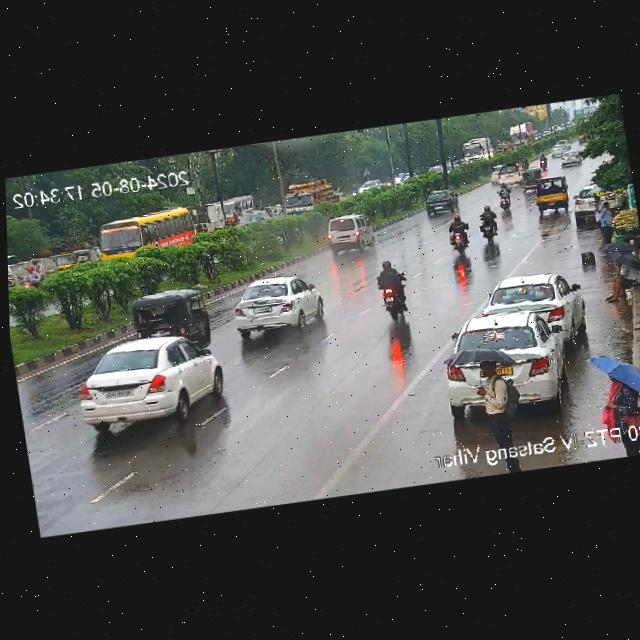bus: (91, 205, 210, 267)
car: (68, 329, 236, 440), (435, 308, 575, 407), (229, 269, 330, 341), (484, 267, 585, 337), (129, 283, 215, 348), (322, 214, 374, 256), (572, 179, 623, 220), (529, 175, 571, 211), (420, 188, 458, 216), (497, 162, 525, 186), (519, 169, 541, 192), (560, 148, 584, 166), (485, 163, 501, 184), (550, 144, 567, 157), (556, 137, 571, 148)
motorcycle: (368, 257, 416, 325), (440, 214, 473, 256), (475, 205, 502, 244), (16, 263, 49, 291), (493, 182, 513, 212), (539, 152, 548, 171), (522, 157, 529, 168)
person: (477, 360, 512, 450), (601, 371, 639, 428), (602, 261, 640, 301), (587, 193, 606, 233), (600, 199, 616, 243)
truck: (281, 175, 337, 214)
